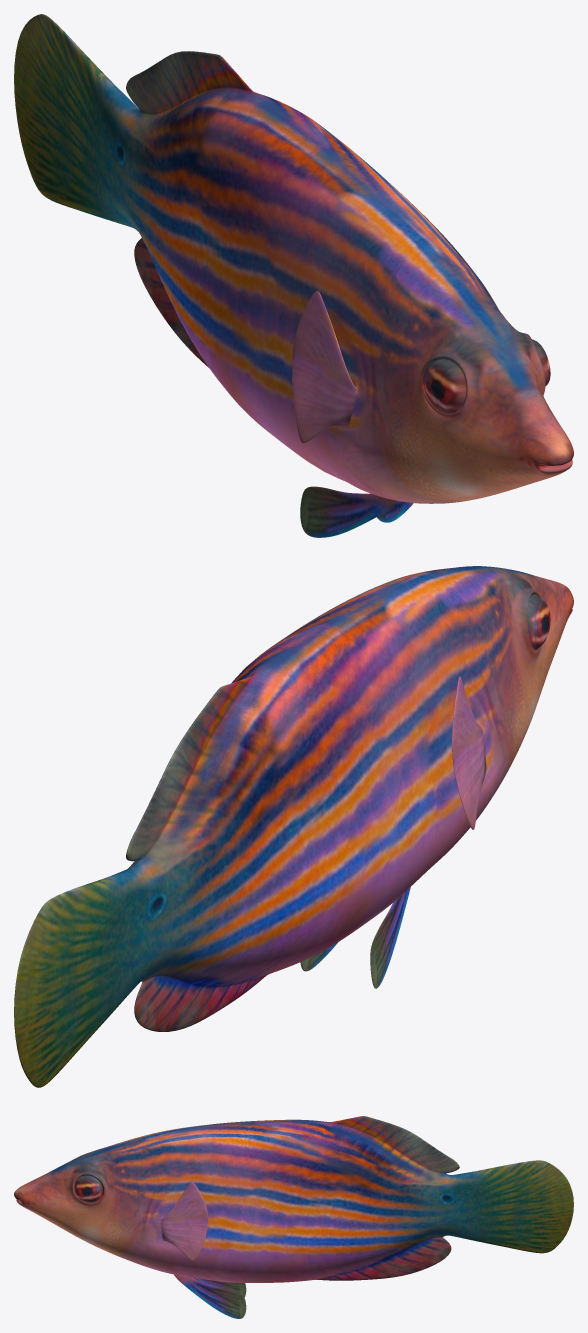
The model's file is peixe4.fbx.
The picture shows the model from 3 angles, top to bottom: view 1: azimuth 30°, elevation 25°; view 2: azimuth 150°, elevation 25°; view 3: azimuth 270°, elevation 25°; orthographic projection. The views are drawn at different scales.
Visible parts, largest first — view 1: Default; view 2: Default; view 3: Default.
Part boxes in pixels (x1,y1,x2,y2): Default: (14,14,573,537); Default: (14,566,573,1087); Default: (14,1116,573,1318).
Size of the model in its own units: 1.29 by 2.73 by 7.13.
Materials: 1 (1 with a texture image).
